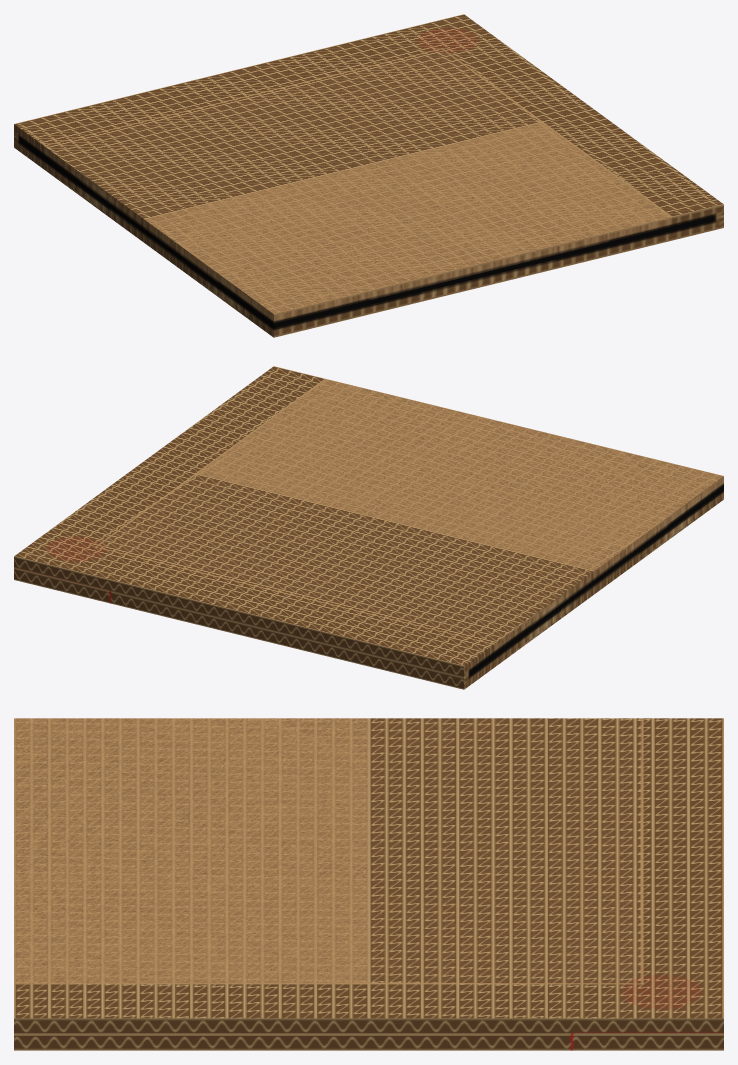
File: 24-clock-base-back-right.fbx
3 views of the same model, one above another, from view 1: azimuth 30°, elevation 25°; view 2: azimuth 150°, elevation 25°; view 3: azimuth 270°, elevation 25° (orthographic). The views are drawn at different scales.
Visible parts, largest first — view 1: clock-base-back-right; view 2: clock-base-back-right; view 3: clock-base-back-right.
Boxes of the visible parts, left/top/right/bottom form: clock-base-back-right: left=14, top=14, right=723, bottom=337; clock-base-back-right: left=14, top=366, right=723, bottom=689; clock-base-back-right: left=14, top=718, right=723, bottom=1050.
Bounding box in the file's own units: 8000 × 400 × 8000.
1 material, 1 textured.
